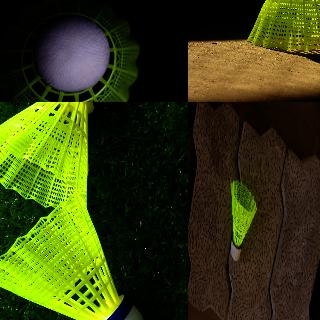shuttlecock: (0, 195, 145, 319), (0, 0, 140, 101), (0, 102, 102, 206), (248, 0, 319, 51), (230, 180, 256, 260)
